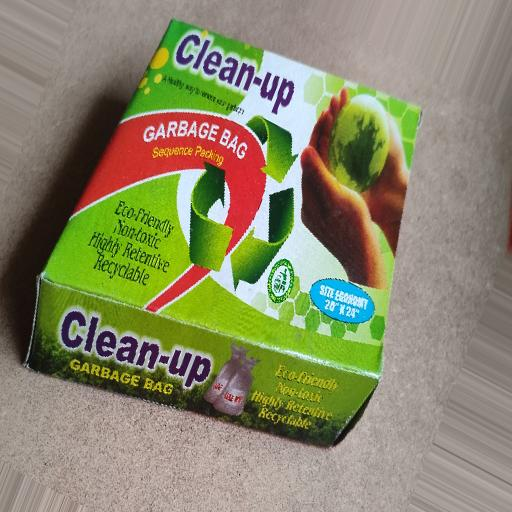CleanUp Garbage bag: (15, 15, 464, 487)
